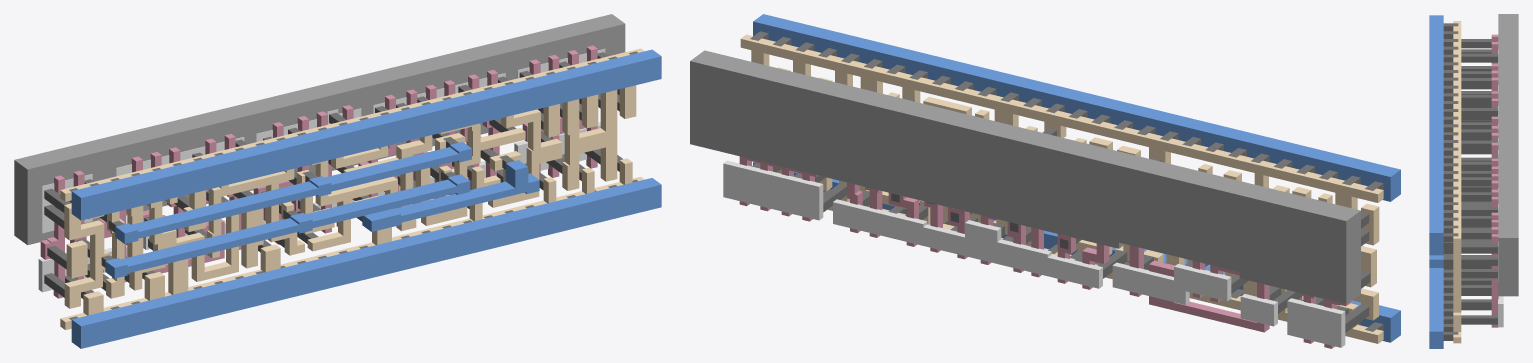
Rendered from sky130_fd_sc_hd__sdfrtp_4.gds.gltf.
3 renders of one model, left to right at view 1: azimuth 30°, elevation 25°; view 2: azimuth 150°, elevation 25°; view 3: azimuth 270°, elevation 25°, orthographic. The views are drawn at different scales.
Parts seen in each view (by area): view 1: sky130_fd_sc_hd__sdfrtp_4_met1, sky130_fd_sc_hd__sdfrtp_4_li1, sky130_fd_sc_hd__sdfrtp_4_nwell, sky130_fd_sc_hd__sdfrtp_4_poly, sky130_fd_sc_hd__sdfrtp_4_licon, sky130_fd_sc_hd__sdfrtp_4_diff, sky130_fd_sc_hd__sdfrtp_4_mcon; view 2: sky130_fd_sc_hd__sdfrtp_4_nwell, sky130_fd_sc_hd__sdfrtp_4_diff, sky130_fd_sc_hd__sdfrtp_4_li1, sky130_fd_sc_hd__sdfrtp_4_met1, sky130_fd_sc_hd__sdfrtp_4_poly, sky130_fd_sc_hd__sdfrtp_4_mcon, sky130_fd_sc_hd__sdfrtp_4_licon; view 3: sky130_fd_sc_hd__sdfrtp_4_licon, sky130_fd_sc_hd__sdfrtp_4_nwell, sky130_fd_sc_hd__sdfrtp_4_met1, sky130_fd_sc_hd__sdfrtp_4_mcon, sky130_fd_sc_hd__sdfrtp_4_li1, sky130_fd_sc_hd__sdfrtp_4_poly, sky130_fd_sc_hd__sdfrtp_4_diff.
Boxes of the visible parts, left/top/right/bottom form: sky130_fd_sc_hd__sdfrtp_4_met1: left=71, top=49, right=661, bottom=348; sky130_fd_sc_hd__sdfrtp_4_li1: left=60, top=48, right=644, bottom=329; sky130_fd_sc_hd__sdfrtp_4_nwell: left=14, top=14, right=625, bottom=245; sky130_fd_sc_hd__sdfrtp_4_poly: left=40, top=45, right=597, bottom=298; sky130_fd_sc_hd__sdfrtp_4_licon: left=44, top=52, right=622, bottom=298; sky130_fd_sc_hd__sdfrtp_4_diff: left=38, top=49, right=605, bottom=292; sky130_fd_sc_hd__sdfrtp_4_mcon: left=69, top=51, right=637, bottom=319; sky130_fd_sc_hd__sdfrtp_4_nwell: left=690, top=50, right=1360, bottom=304; sky130_fd_sc_hd__sdfrtp_4_diff: left=723, top=160, right=1345, bottom=347; sky130_fd_sc_hd__sdfrtp_4_li1: left=740, top=34, right=1383, bottom=343; sky130_fd_sc_hd__sdfrtp_4_met1: left=753, top=14, right=1400, bottom=342; sky130_fd_sc_hd__sdfrtp_4_poly: left=739, top=156, right=1351, bottom=348; sky130_fd_sc_hd__sdfrtp_4_mcon: left=750, top=31, right=1383, bottom=331; sky130_fd_sc_hd__sdfrtp_4_licon: left=752, top=62, right=1370, bottom=332; sky130_fd_sc_hd__sdfrtp_4_licon: left=1461, top=39, right=1497, bottom=324; sky130_fd_sc_hd__sdfrtp_4_nwell: left=1498, top=14, right=1518, bottom=296; sky130_fd_sc_hd__sdfrtp_4_met1: left=1429, top=15, right=1443, bottom=348; sky130_fd_sc_hd__sdfrtp_4_mcon: left=1443, top=23, right=1458, bottom=340; sky130_fd_sc_hd__sdfrtp_4_li1: left=1453, top=21, right=1461, bottom=343; sky130_fd_sc_hd__sdfrtp_4_poly: left=1491, top=34, right=1498, bottom=327; sky130_fd_sc_hd__sdfrtp_4_diff: left=1498, top=49, right=1503, bottom=327.
Size of the model in its own units: 13.26 by 3.2 by 2.24.
